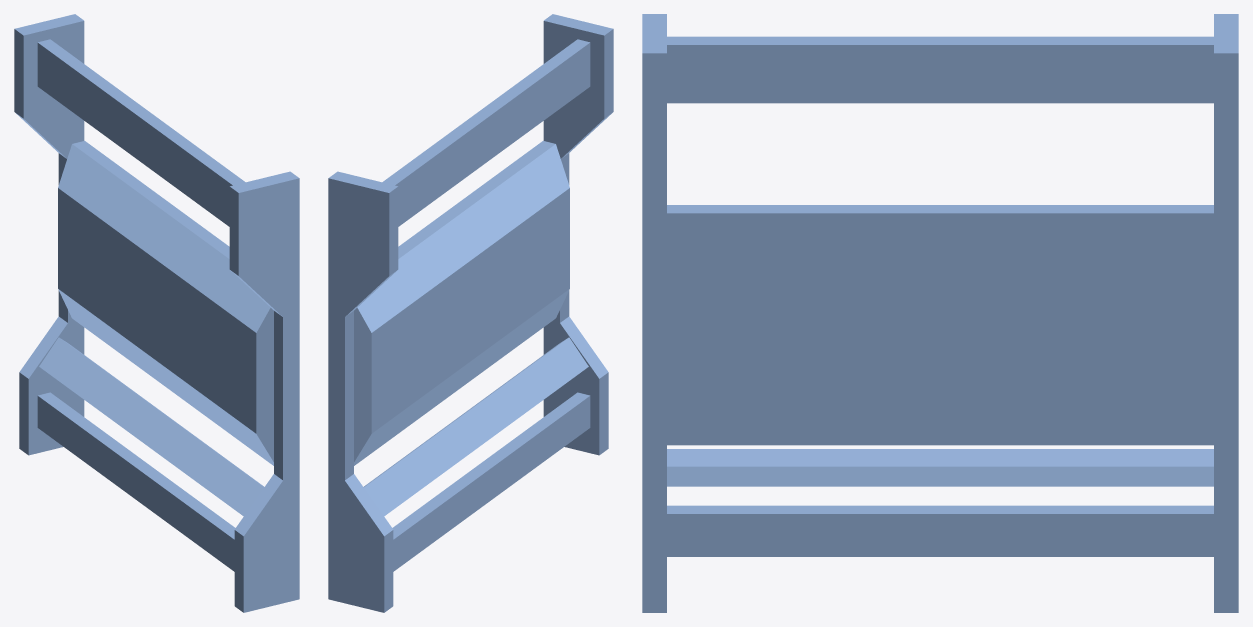
Rendered from valla.obj.
The picture shows the model from 3 angles, left to right: view 1: azimuth 30°, elevation 25°; view 2: azimuth 150°, elevation 25°; view 3: azimuth 270°, elevation 25°; orthographic projection. The views are drawn at different scales.
Parts seen in each view (by area): view 1: Box006; view 2: Box006; view 3: Box006.
Part boxes in pixels (x1,y1,x2,y2): Box006: (14, 14, 299, 612); Box006: (328, 14, 613, 612); Box006: (642, 14, 1238, 612).
Bounding box in the file's own units: 6.17 × 40.53 × 39.15.
